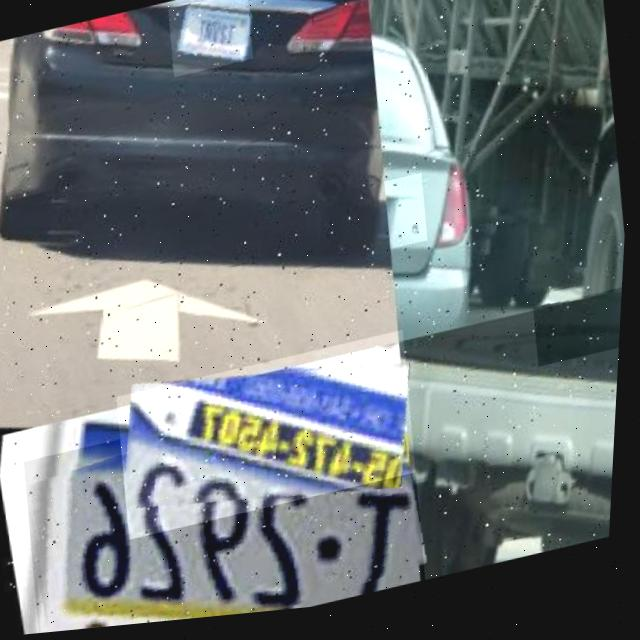LicensePlate: (21, 378, 440, 636), (115, 337, 427, 545), (535, 299, 626, 378), (173, 10, 250, 67), (384, 181, 433, 258)
